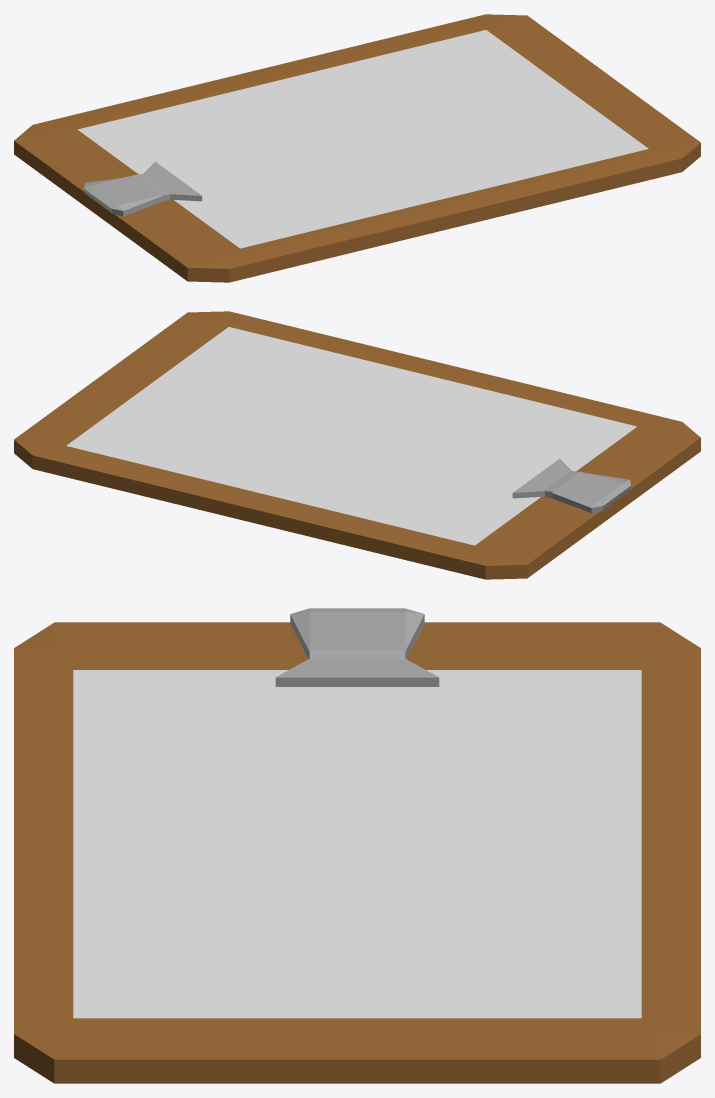
File: PRANCHETA.fbx
3 renders of one model, top to bottom at view 1: azimuth 30°, elevation 25°; view 2: azimuth 150°, elevation 25°; view 3: azimuth 270°, elevation 25°, orthographic. The views are drawn at different scales.
Visible parts, largest first — view 1: Plane, Cube, Cube.001, Cube.002; view 2: Plane, Cube, Cube.001, Cube.002; view 3: Plane, Cube, Cube.001, Cube.002.
Part boxes in pixels (box(x1,y1,x2,y2)): Plane: box(78, 30, 648, 248); Cube: box(14, 14, 700, 282); Cube.001: box(84, 174, 170, 216); Cube.002: box(143, 161, 202, 201); Plane: box(66, 327, 636, 545); Cube: box(14, 311, 700, 579); Cube.001: box(544, 471, 630, 513); Cube.002: box(512, 458, 571, 498); Plane: box(73, 670, 641, 1018); Cube: box(14, 622, 700, 1083); Cube.001: box(290, 608, 424, 659); Cube.002: box(275, 659, 439, 686).
Bounding box in the file's own units: 113 × 4.65 × 74.45.
